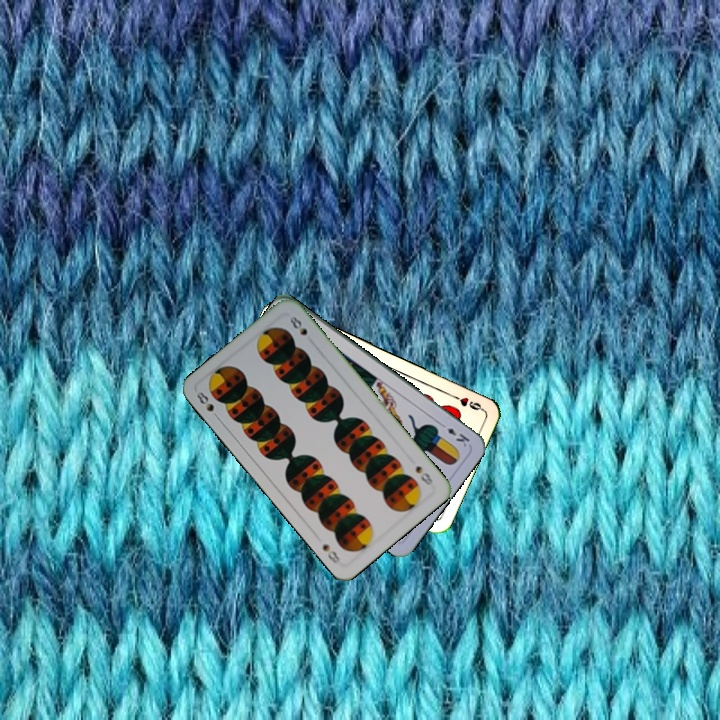EK: (436, 418, 472, 450)
H9: (447, 391, 485, 413)
S8: (192, 387, 223, 423), (411, 461, 436, 488)
